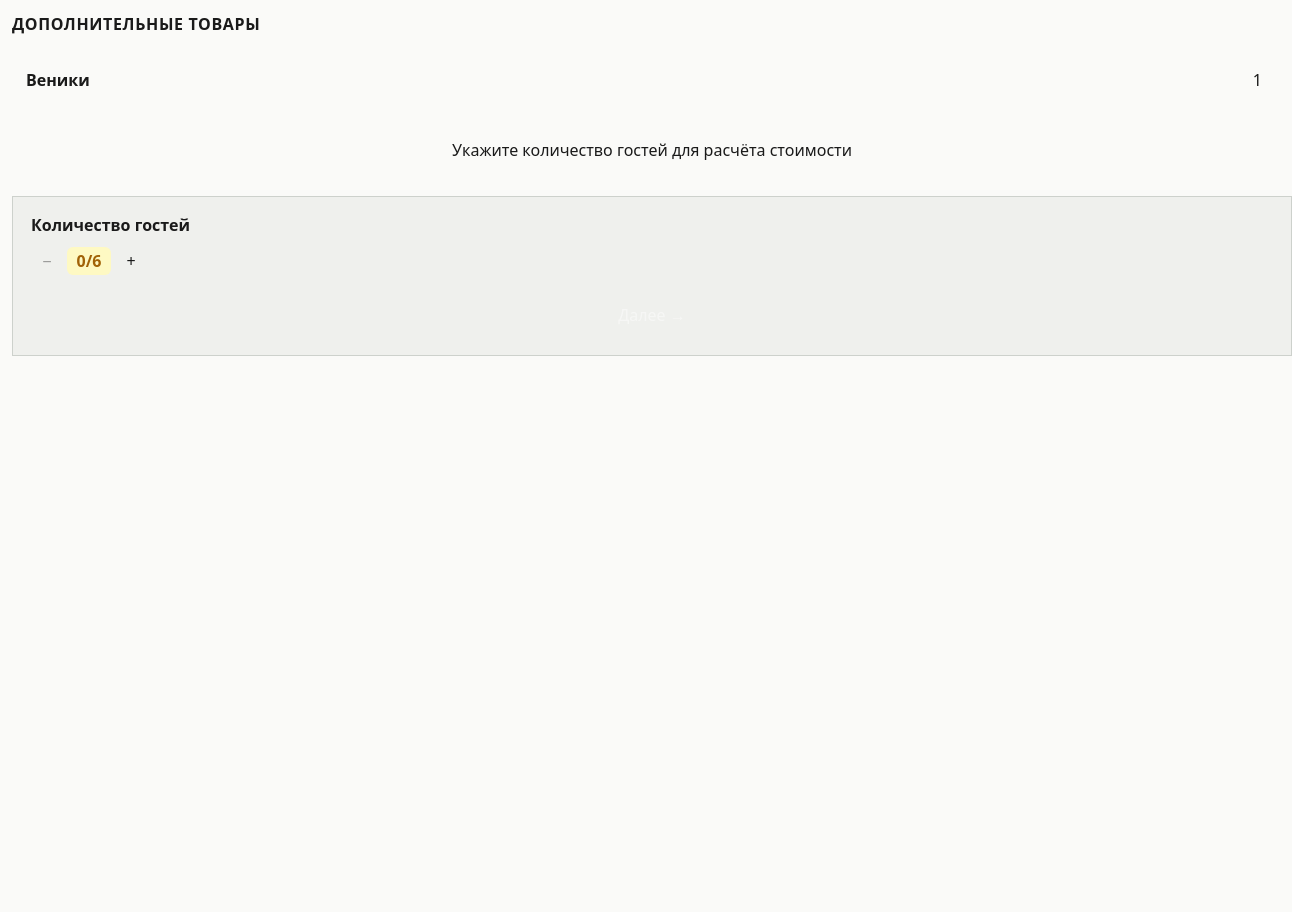
Scenario: StepSetup › calculates homes stay via dailyCalculate
Expected: the text "0/6" is shown, left=67, top=247, right=111, bottom=275
Click the button named "Увеличить количество гостей" at (131, 261), box left=115, top=245, right=147, bottom=277
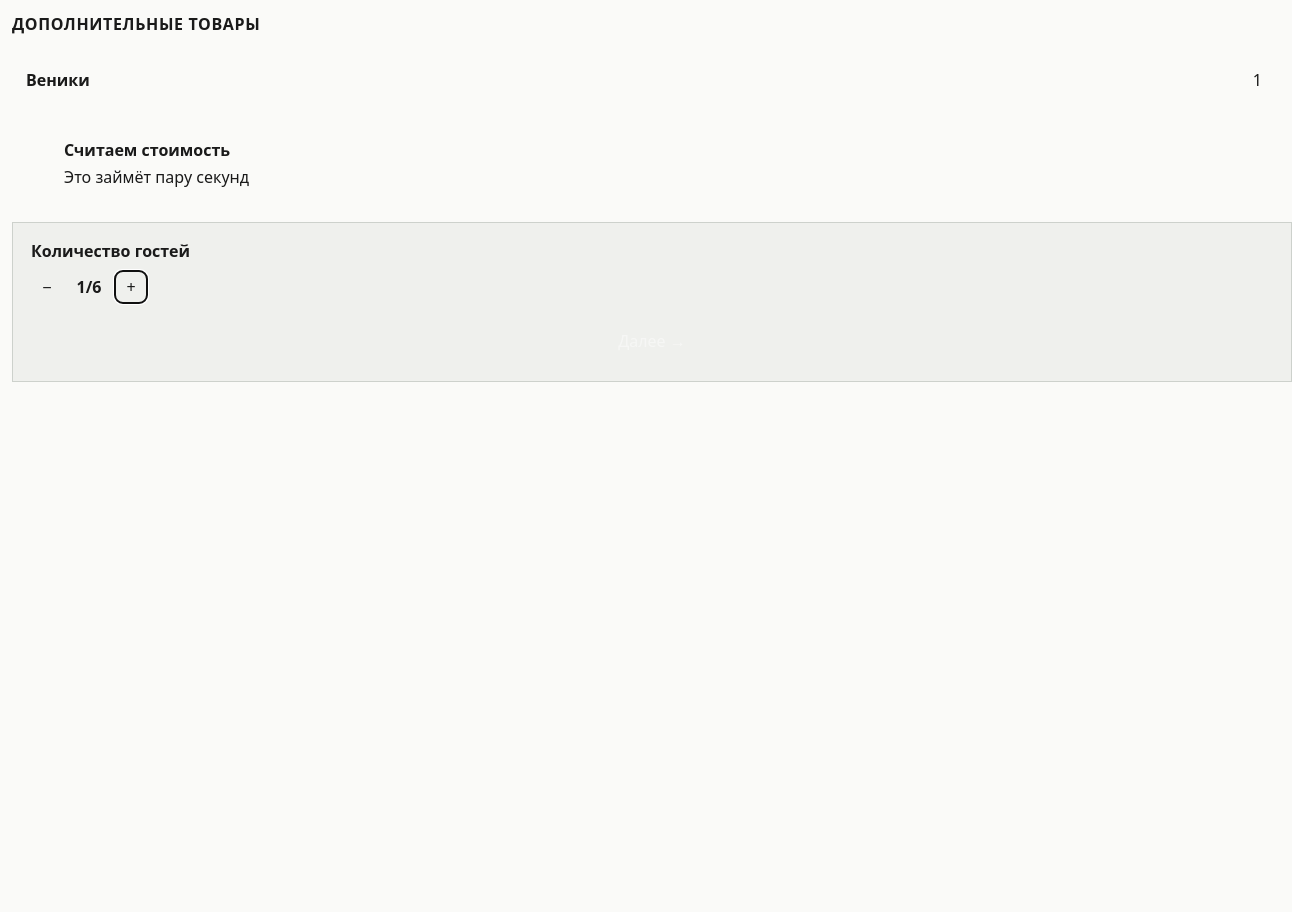
Click the button named "Увеличить количество гостей" at (131, 287), box left=115, top=271, right=147, bottom=303
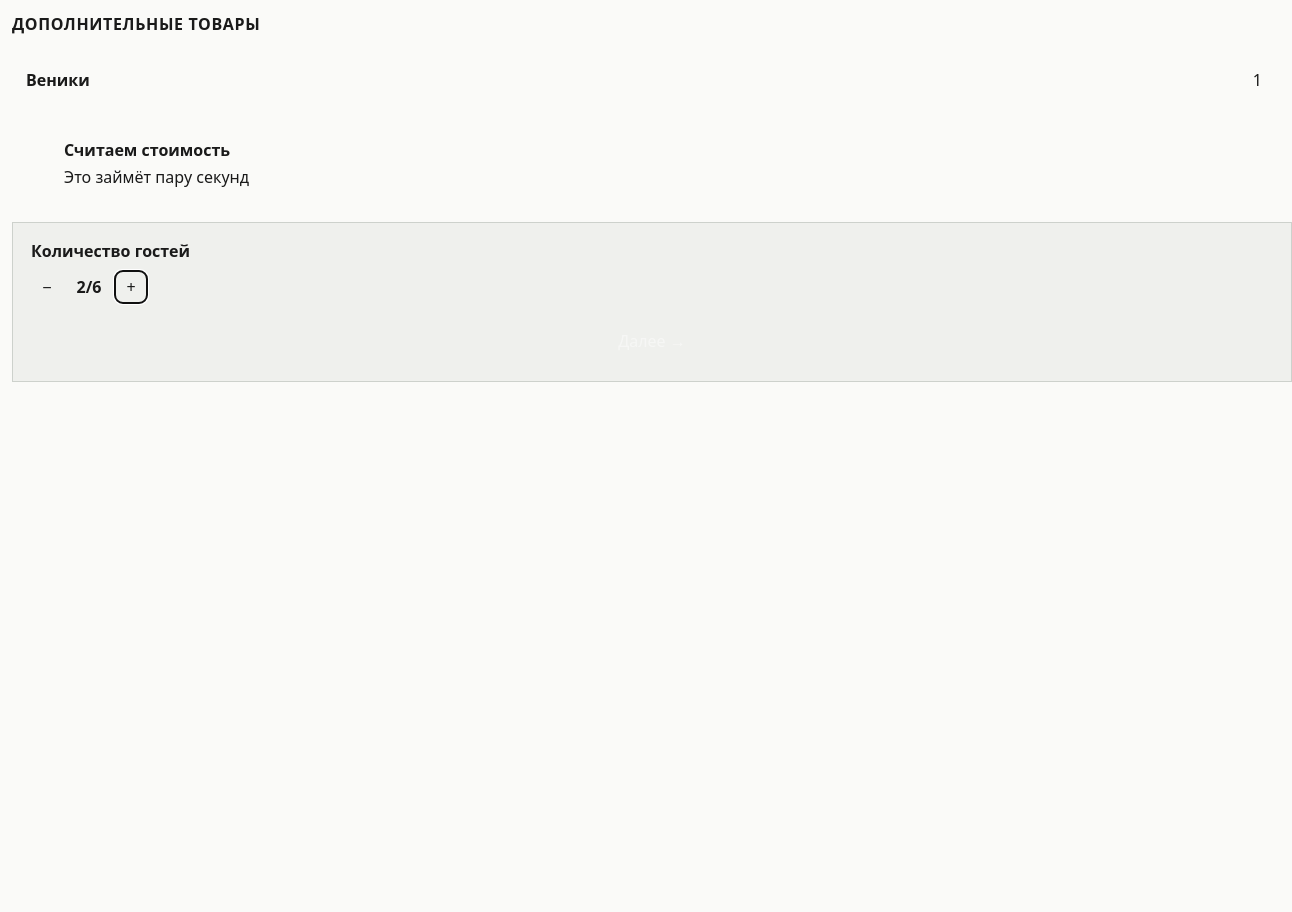
Click the button named "Увеличить количество гостей" at (131, 287), box left=115, top=271, right=147, bottom=303
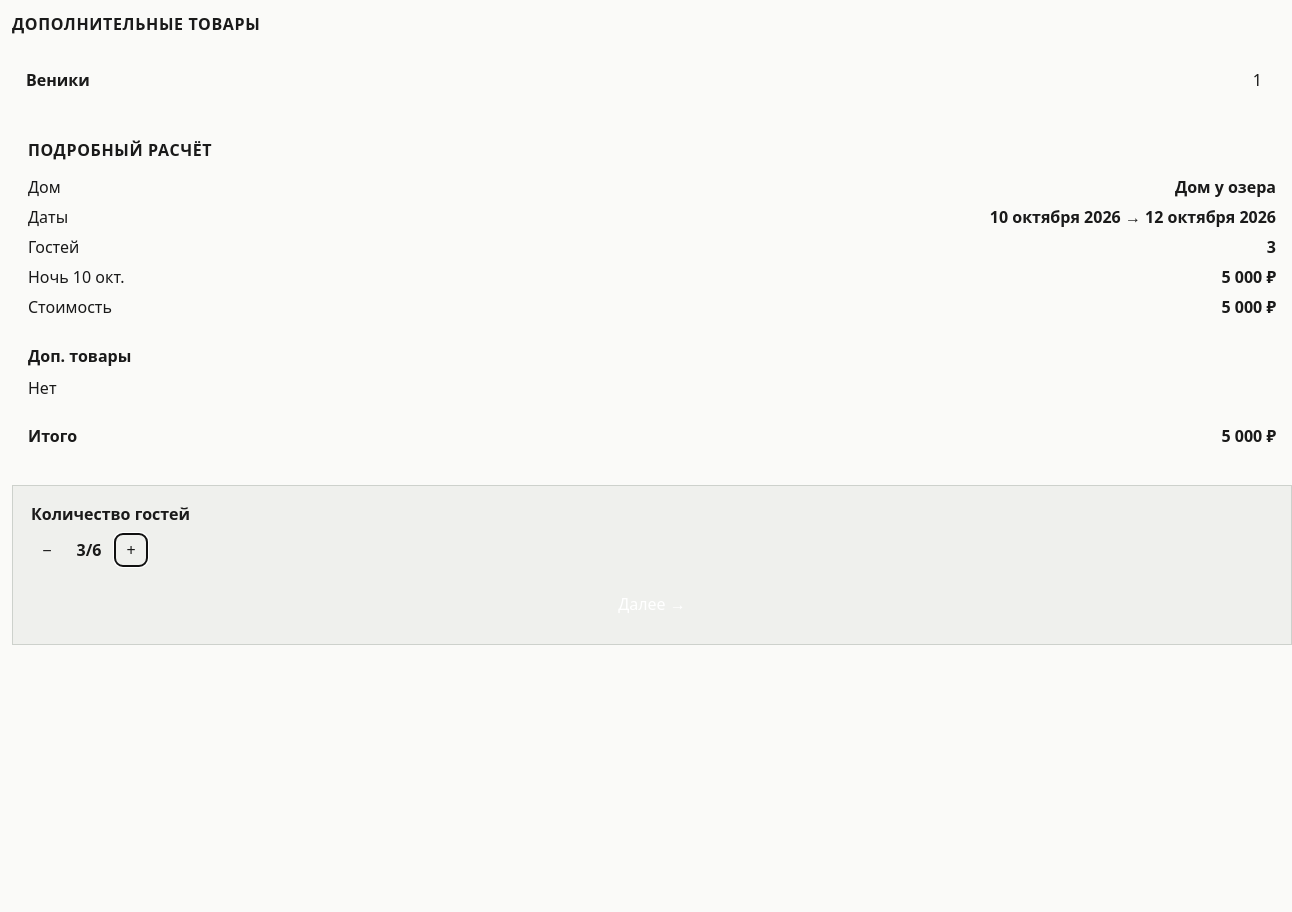
Result: the text "Стоимость" is shown at left=28, top=295, right=112, bottom=319
Result: the text "3/6" is shown at left=76, top=539, right=101, bottom=561
Result: the text "Дом у озера" is shown at left=1175, top=175, right=1276, bottom=199
